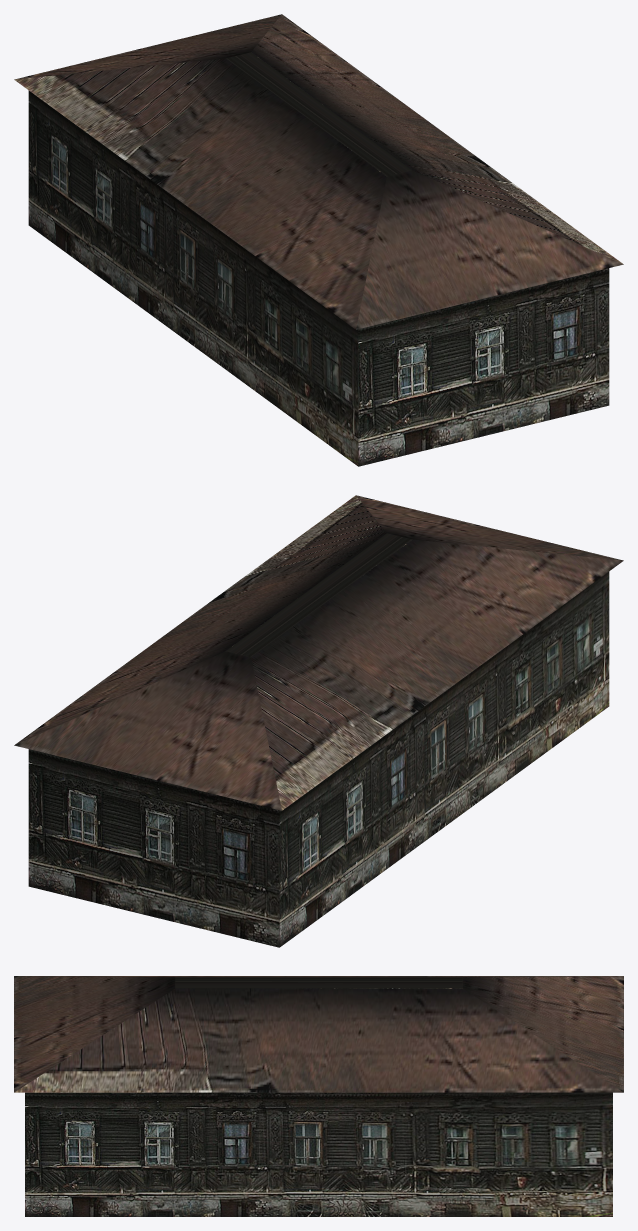
Rendered from d_dom_1et_61.FBX.
The picture shows the model from 3 angles, top to bottom: view 1: azimuth 30°, elevation 25°; view 2: azimuth 150°, elevation 25°; view 3: azimuth 270°, elevation 25°; orthographic projection. The views are drawn at different scales.
Visible parts, largest first — view 1: d_dom_1et_61; view 2: d_dom_1et_61; view 3: d_dom_1et_61.
Part boxes in pixels (x1,y1,x2,y2): d_dom_1et_61: [14, 14, 623, 466]; d_dom_1et_61: [14, 495, 623, 947]; d_dom_1et_61: [14, 976, 623, 1216].
Size of the model in its own units: 7.82 by 17.28 by 5.61.
